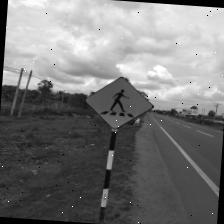yellowboard: (80, 73, 156, 132)
